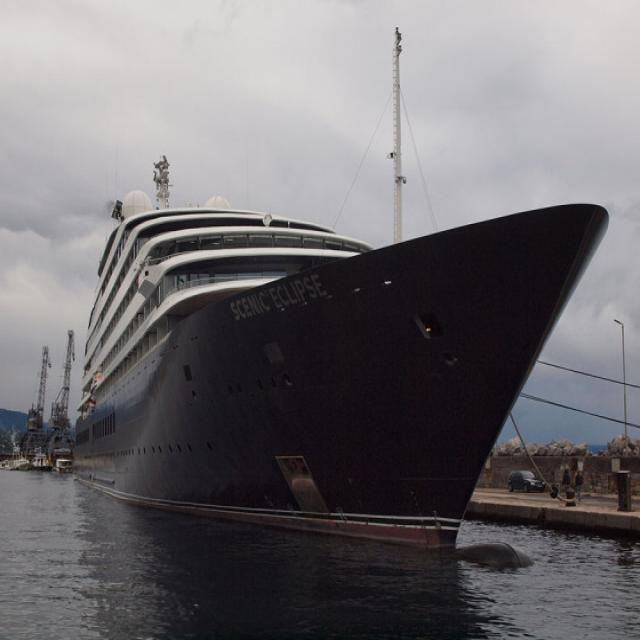cruises: (71, 152, 615, 584)
